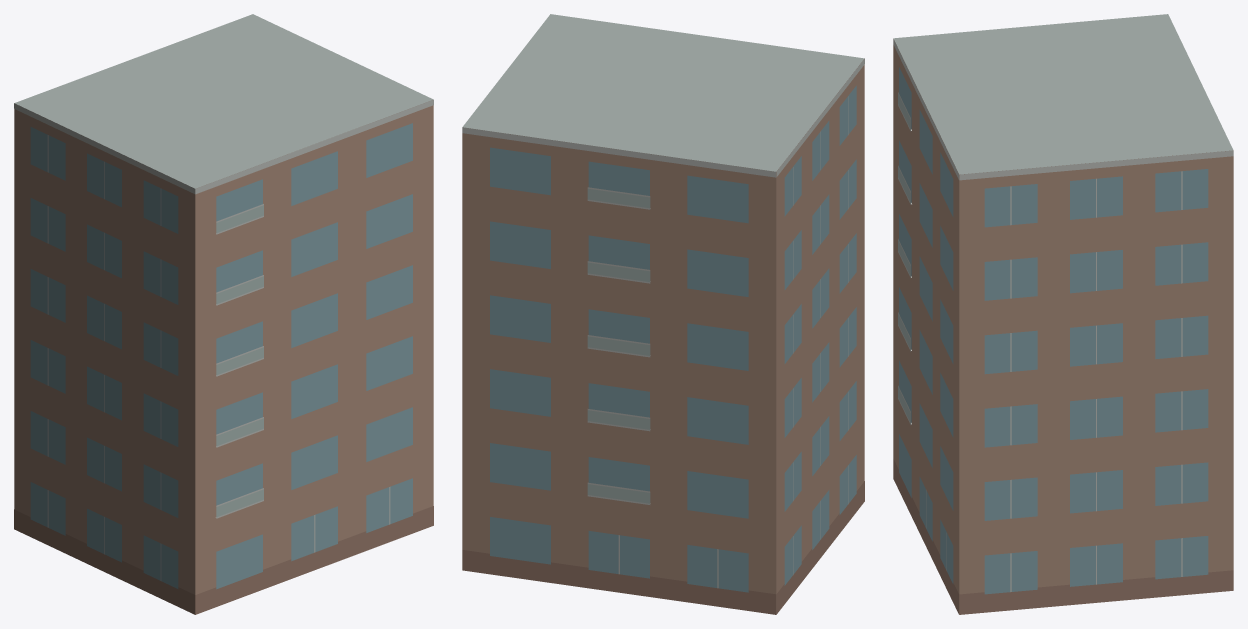
File: survey-upis-32603759.glb
3 views of the same model, side by side, from view 1: azimuth 30°, elevation 25°; view 2: azimuth 150°, elevation 25°; view 3: azimuth 270°, elevation 25° (orthographic). The views are drawn at different scales.
Parts seen in each view (by area): view 1: survey-upis-32603759.tmp; view 2: survey-upis-32603759.tmp; view 3: survey-upis-32603759.tmp.
Boxes of the visible parts, x1=… form: survey-upis-32603759.tmp: x1=14, y1=14, x2=433, y2=614; survey-upis-32603759.tmp: x1=462, y1=14, x2=864, y2=614; survey-upis-32603759.tmp: x1=893, y1=14, x2=1233, y2=614.
Size of the model in its own units: 14.32 by 18.3 by 12.83.
